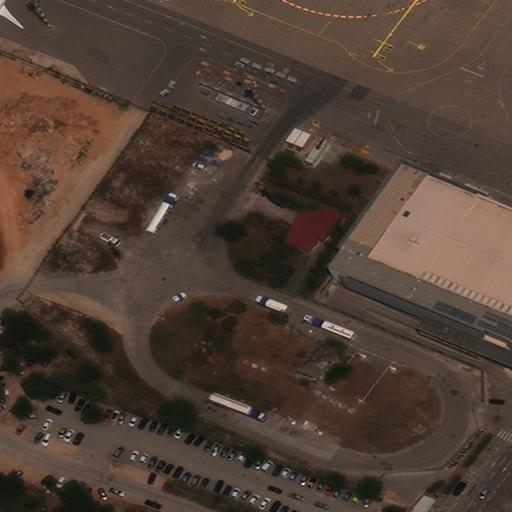Medium Civil Transport: (0, 0, 24, 27)
